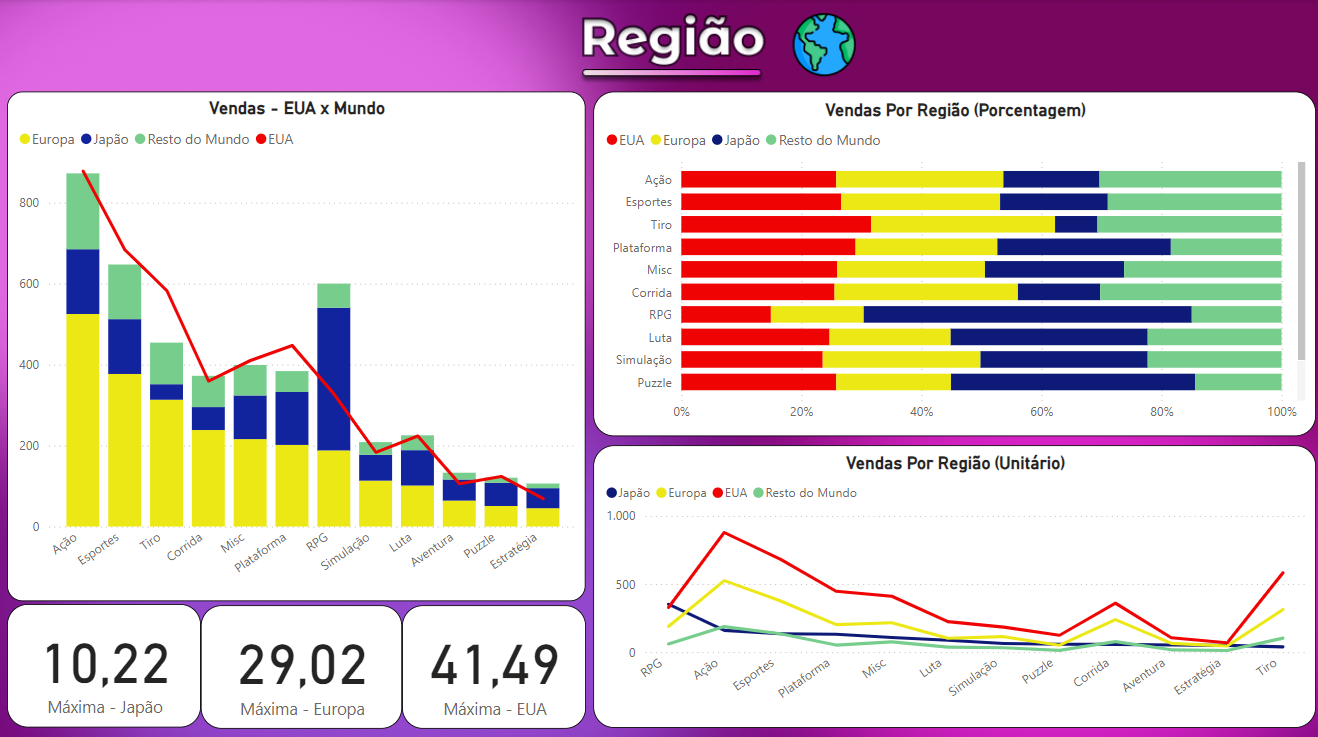

What the dashboard file says about the page in this screenshot:
{"tool":"powerbi","page":{"name":"Dados em região","canvas":[1280,720],"ordinal":3},"visuals":[{"type":"barChart","title":"Vendas Por Região (Porcentagem)","fields":{"Category":["games-Final.Genero"],"Y":["Sum(games-Final.Vendas_EUA)","Sum(games-Final.Vendas_Europa)","Sum(games-Final.Vendas_JP)","Sum(games-Final.Outras_Vendas)"]},"box":[583.2,98.8,680.6,319.7],"z":0},{"type":"areaChart","title":"Vendas Por Região (Unitário)","fields":{"Y":["Sum(games-Final.Vendas_JP)","Sum(games-Final.Vendas_Europa)","Sum(games-Final.Vendas_EUA)","Sum(games-Final.Outras_Vendas)"],"Category":["games-Final.Genero"]},"box":[583.2,429.5,680.6,274.4],"z":1000},{"type":"lineStackedColumnComboChart","title":"Vendas - EUA x Mundo","fields":{"Category":["games-Final.Genero"],"Y":["Sum(games-Final.Vendas_Europa)","Sum(games-Final.Vendas_JP)","Sum(games-Final.Outras_Vendas)"],"Y2":["Sum(games-Final.Vendas_EUA)"]},"box":[16.5,105.7,522.8,598.3],"z":2000}]}

Visuals, with their boxes in screenshot pixels (x1, y1, x2, y2), scaled from the page's 1280x720 canvas onto the 1318x737 screenshot:
"Vendas Por Região (Porcentagem)" barChart: left=601, top=101, right=1301, bottom=428
"Vendas Por Região (Unitário)" areaChart: left=601, top=440, right=1301, bottom=721
"Vendas - EUA x Mundo" lineStackedColumnComboChart: left=17, top=108, right=555, bottom=721
